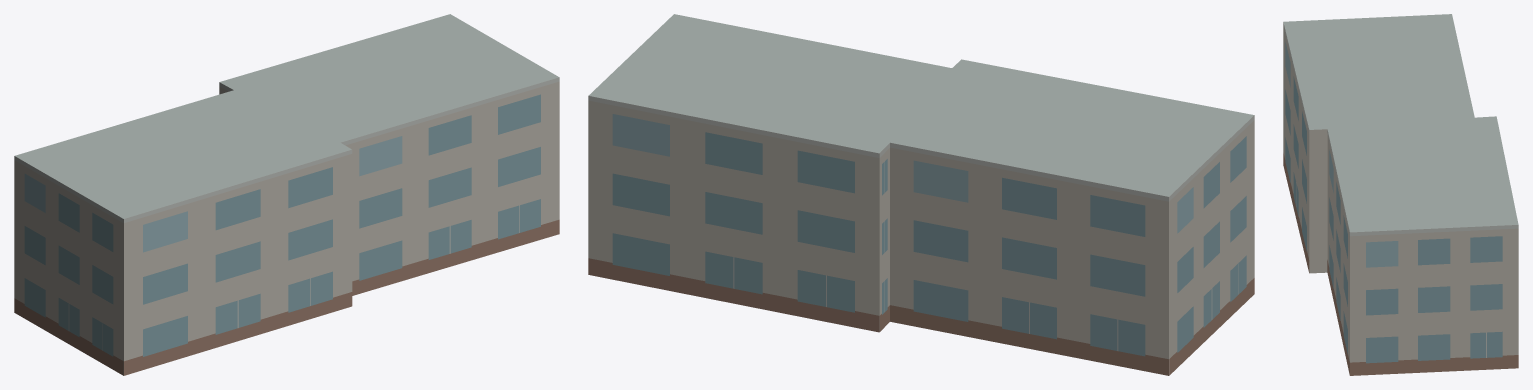
The model's file is survey-upis-32750862.glb.
3 views of the same model, side by side, from view 1: azimuth 30°, elevation 25°; view 2: azimuth 150°, elevation 25°; view 3: azimuth 270°, elevation 25° (orthographic). The views are drawn at different scales.
Parts seen in each view (by area): view 1: survey-upis-32750862.tmp; view 2: survey-upis-32750862.tmp; view 3: survey-upis-32750862.tmp.
Boxes of the visible parts, bbox=[...] form: survey-upis-32750862.tmp: bbox=[14, 14, 559, 375]; survey-upis-32750862.tmp: bbox=[588, 14, 1254, 375]; survey-upis-32750862.tmp: bbox=[1283, 14, 1518, 375].
Size of the model in its own units: 29.89 by 9.15 by 13.61.
